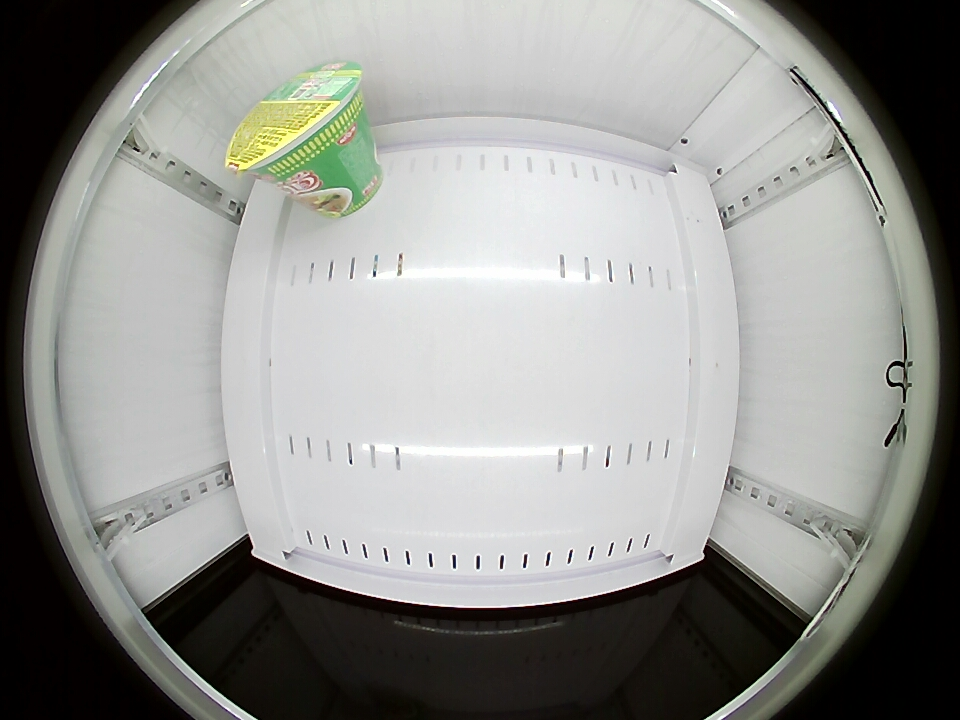heweidao2: (226, 61, 364, 183)
